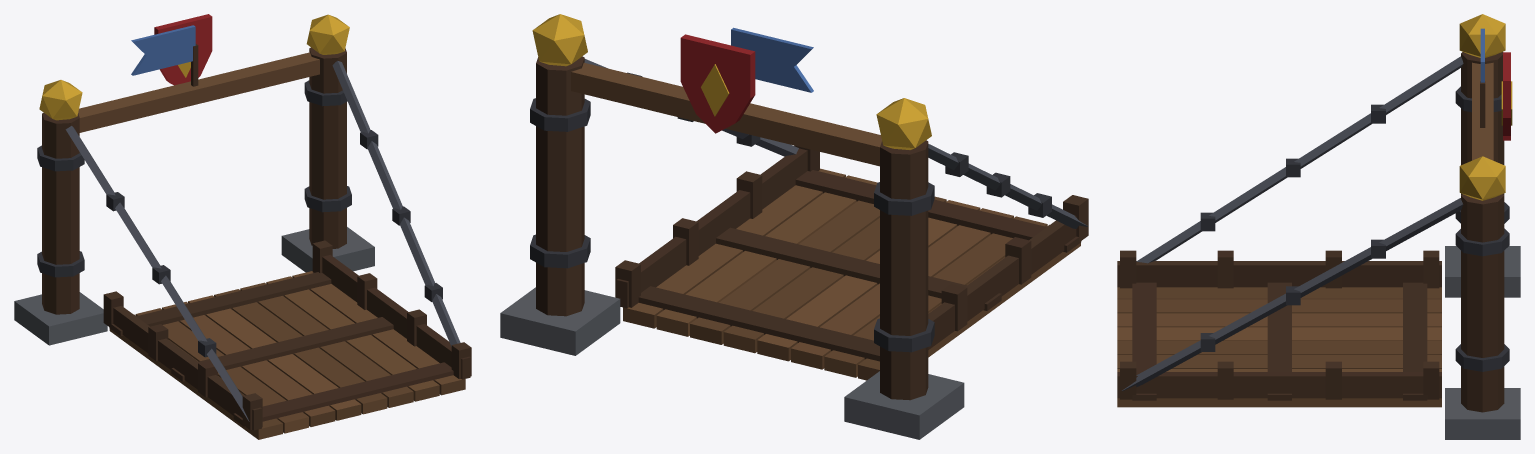
File: Decor_KnightCastle_Drawbridge.fbx
3 renders of one model, left to right at view 1: azimuth 30°, elevation 25°; view 2: azimuth 150°, elevation 25°; view 3: azimuth 270°, elevation 25°, orthographic. The views are drawn at different scales.
Parts seen in each view (by area): view 1: Drawbridge_Body; view 2: Drawbridge_Body; view 3: Drawbridge_Body.
Boxes of the visible parts, x1,y1,x2,y2 form: Drawbridge_Body: (14, 14, 471, 439); Drawbridge_Body: (500, 14, 1088, 439); Drawbridge_Body: (1117, 14, 1520, 439).
Size of the model in its own units: 14.8 by 11.6 by 14.55.
